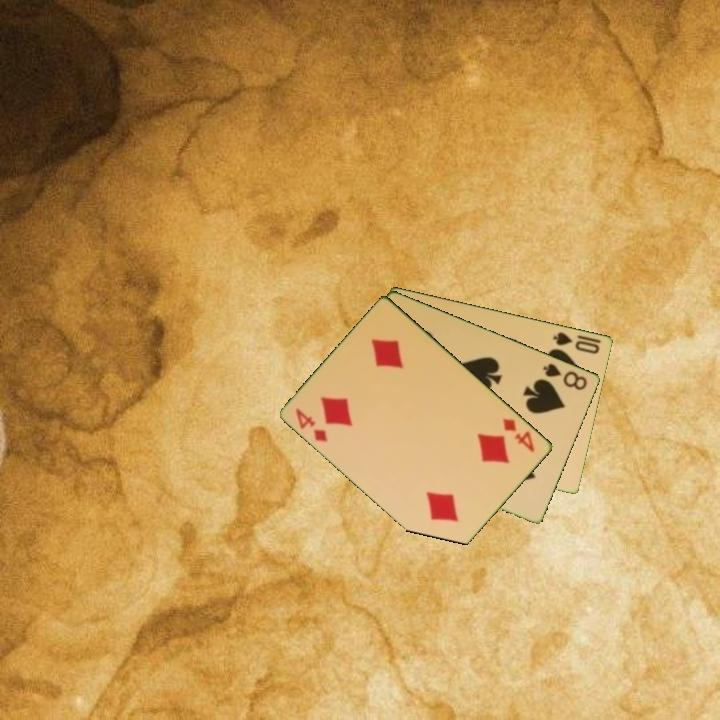10s: (550, 328, 603, 357)
4d: (292, 404, 331, 445), (499, 415, 538, 455)
8s: (540, 359, 590, 393)
